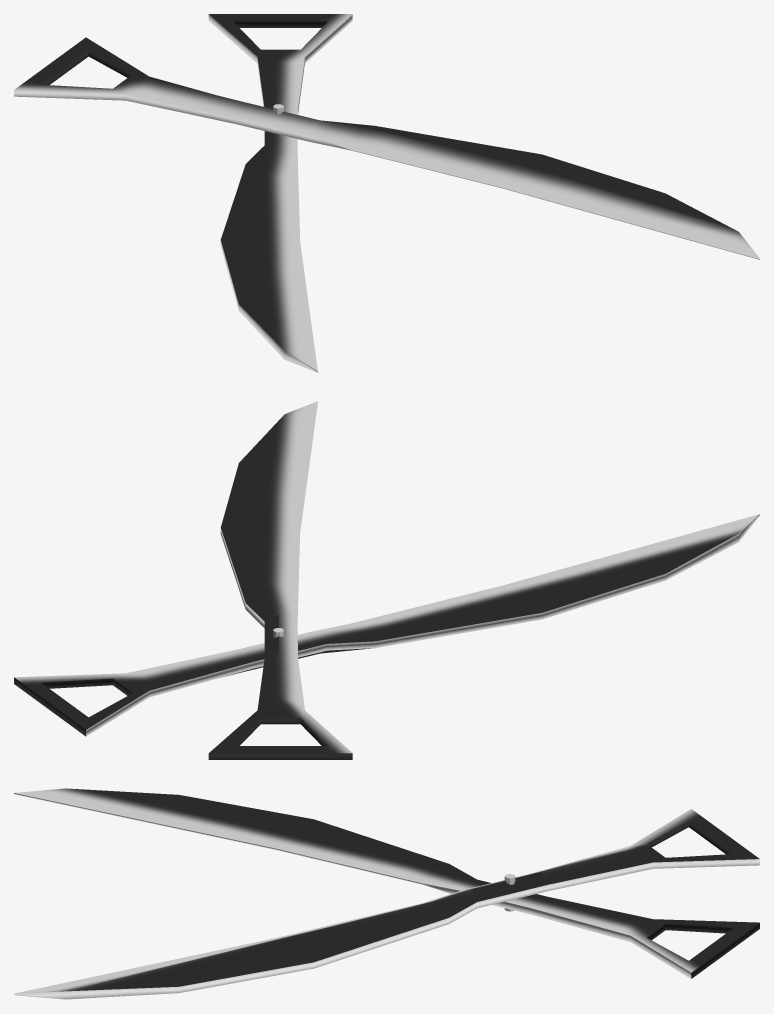
File: weapon_JianDao.fbx
The picture shows the model from 3 angles, top to bottom: view 1: azimuth 30°, elevation 25°; view 2: azimuth 150°, elevation 25°; view 3: azimuth 270°, elevation 25°; orthographic projection. The views are drawn at different scales.
Parts seen in each view (by area): view 1: JD1, JD2; view 2: JD2, JD1; view 3: JD1, JD2.
Boxes of the visible parts, left/top/right/bottom form: JD1: left=14, top=37, right=759, bottom=259; JD2: left=208, top=14, right=352, bottom=372; JD2: left=14, top=514, right=759, bottom=736; JD1: left=208, top=401, right=352, bottom=759; JD1: left=14, top=809, right=759, bottom=999; JD2: left=14, top=788, right=759, bottom=978.
Size of the model in its own units: 0.8262 by 0.0607 by 1.23.
